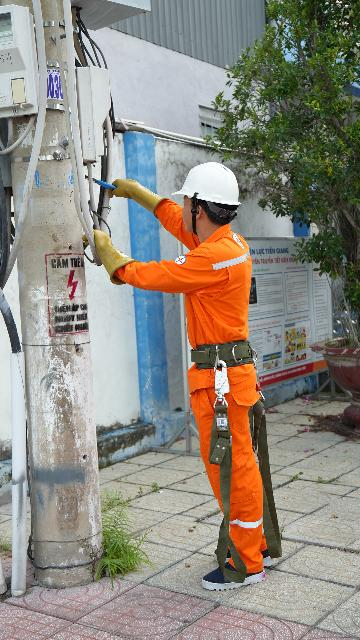gloves: (76, 227, 146, 283), (98, 171, 172, 217)
harness: (163, 323, 263, 390)
helmet: (172, 157, 250, 214)
shoes: (209, 523, 286, 573), (198, 549, 272, 593)
